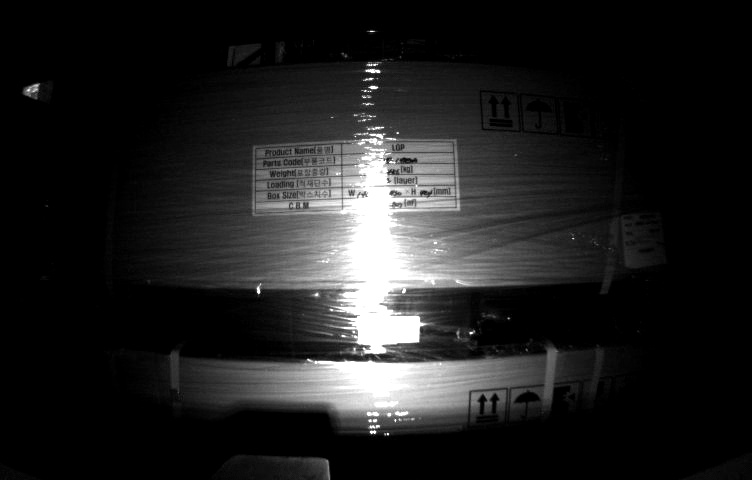True Barcode: (623, 210, 670, 266)
